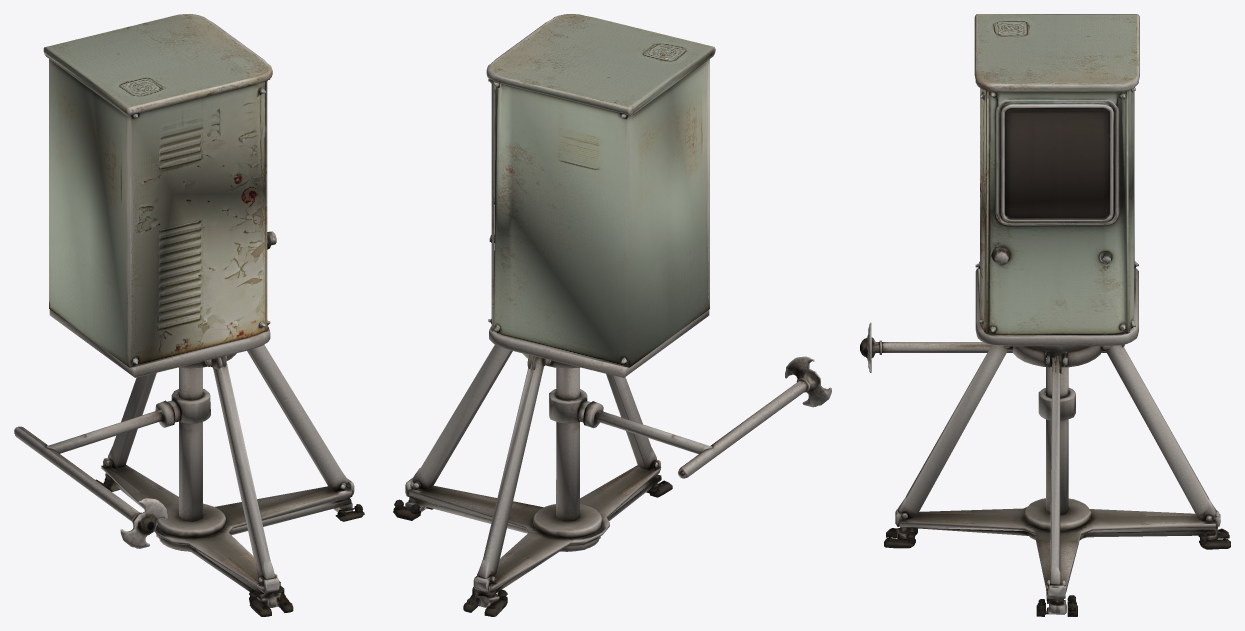
3 views of the same model, side by side, from view 1: azimuth 30°, elevation 25°; view 2: azimuth 150°, elevation 25°; view 3: azimuth 270°, elevation 25° (orthographic). The views are drawn at different scales.
Visible parts, largest first — view 1: tripo_node_3e89381f-33a6-4037-87dc-42747bef9d47; view 2: tripo_node_3e89381f-33a6-4037-87dc-42747bef9d47; view 3: tripo_node_3e89381f-33a6-4037-87dc-42747bef9d47.
Boxes of the visible parts, x1,y1,x2,y2 form: tripo_node_3e89381f-33a6-4037-87dc-42747bef9d47: (14,14,364,616); tripo_node_3e89381f-33a6-4037-87dc-42747bef9d47: (393,14,831,616); tripo_node_3e89381f-33a6-4037-87dc-42747bef9d47: (860,14,1230,616).
Bounding box in the file's own units: 0.6973 × 0.998 × 0.7012.
1 material, 1 textured.
